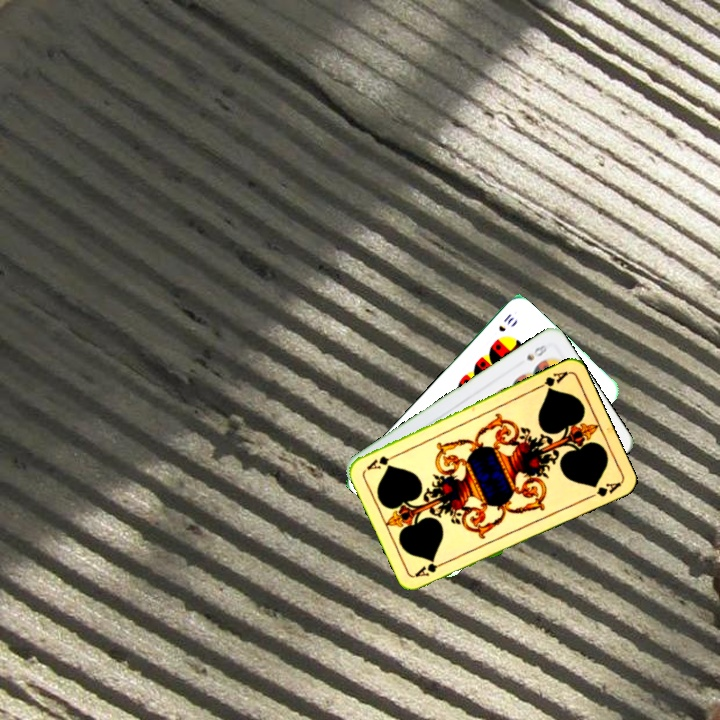GA: (532, 367, 570, 394), (411, 557, 450, 580)
S10: (495, 309, 517, 334)
S8: (523, 340, 550, 363)
